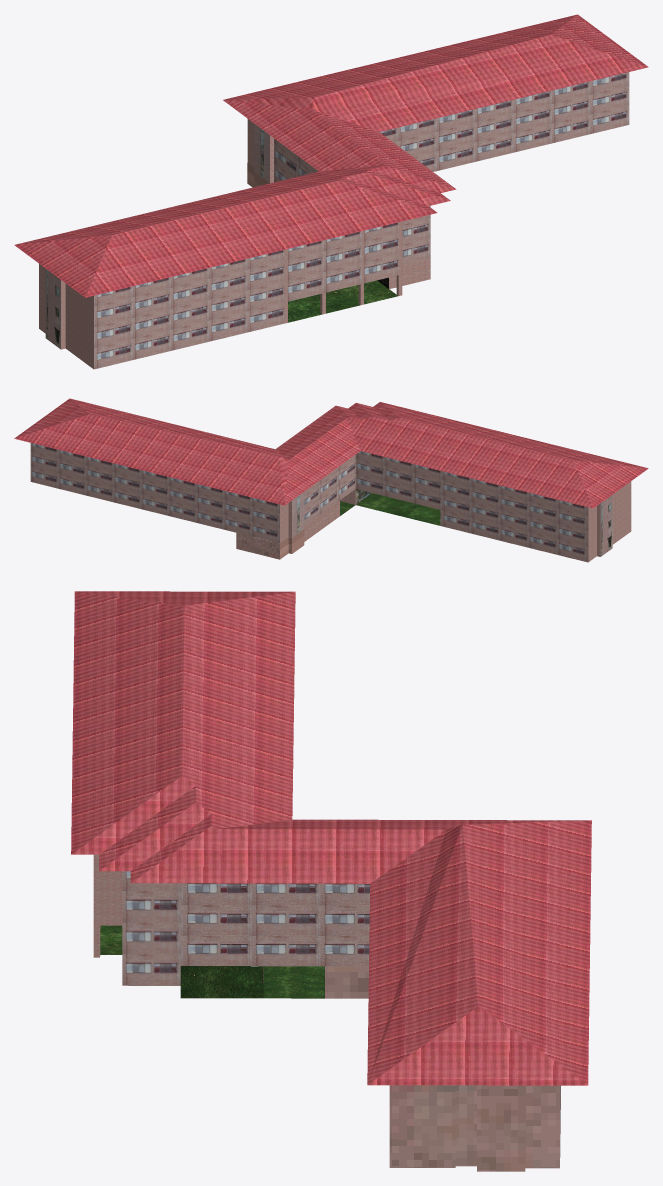
File: Department_of_Industrial_Design_Tool.obj
The picture shows the model from 3 angles, top to bottom: view 1: azimuth 30°, elevation 25°; view 2: azimuth 150°, elevation 25°; view 3: azimuth 270°, elevation 25°; orthographic projection. The views are drawn at different scales.
Parts seen in each view (by area): view 1: VMtl1587, VMtl1585, VMtl1621, VMtl1579, VMtl1586, VMtl1576, VMtl793, VMtl1622, VMtl1575, VMtl1619, VMtl1573, VMtl1620; view 2: VMtl1587, VMtl1621, VMtl1577, VMtl1586, VMtl1584, VMtl1576, VMtl793, VMtl1575, VMtl1619, VMtl1620; view 3: VMtl1587, VMtl1621, VMtl1620, VMtl1572, VMtl1571, VMtl795, VMtl1623, VMtl1586, VMtl1584.
Boxes of the visible parts, x1=… form: VMtl1587: x1=15, y1=14, x2=648, y2=297; VMtl1585: x1=94, y1=221, x2=402, y2=348; VMtl1621: x1=274, y1=72, x2=629, y2=182; VMtl1579: x1=94, y1=303, x2=284, y2=369; VMtl1586: x1=14, y1=235, x2=111, y2=297; VMtl1576: x1=39, y1=264, x2=93, y2=369; VMtl793: x1=288, y1=280, x2=398, y2=322; VMtl1622: x1=402, y1=206, x2=430, y2=264; VMtl1575: x1=45, y1=269, x2=60, y2=349; VMtl1619: x1=254, y1=124, x2=269, y2=183; VMtl1573: x1=389, y1=258, x2=430, y2=289; VMtl1620: x1=247, y1=119, x2=273, y2=183; VMtl1587: x1=14, y1=398, x2=647, y2=508; VMtl1621: x1=30, y1=443, x2=588, y2=546; VMtl1577: x1=440, y1=510, x2=588, y2=562; VMtl1586: x1=573, y1=460, x2=648, y2=508; VMtl1584: x1=236, y1=500, x2=339, y2=559; VMtl1576: x1=588, y1=481, x2=631, y2=562; VMtl793: x1=356, y1=493, x2=440, y2=525; VMtl1575: x1=600, y1=495, x2=612, y2=556; VMtl1619: x1=292, y1=492, x2=304, y2=537; VMtl1620: x1=280, y1=501, x2=291, y2=543; VMtl1587: x1=71, y1=591, x2=591, y2=1085; VMtl1621: x1=180, y1=883, x2=560, y2=1157; VMtl1620: x1=389, y1=1085, x2=559, y2=1171; VMtl1572: x1=122, y1=871, x2=180, y2=985; VMtl1571: x1=180, y1=966, x2=263, y2=998; VMtl795: x1=263, y1=966, x2=324, y2=998; VMtl1623: x1=93, y1=854, x2=122, y2=925; VMtl1586: x1=77, y1=591, x2=294, y2=605; VMtl1584: x1=325, y1=966, x2=368, y2=998.
Size of the model in its own units: 153 by 22.64 by 68.17.
28 materials, 25 textured.
